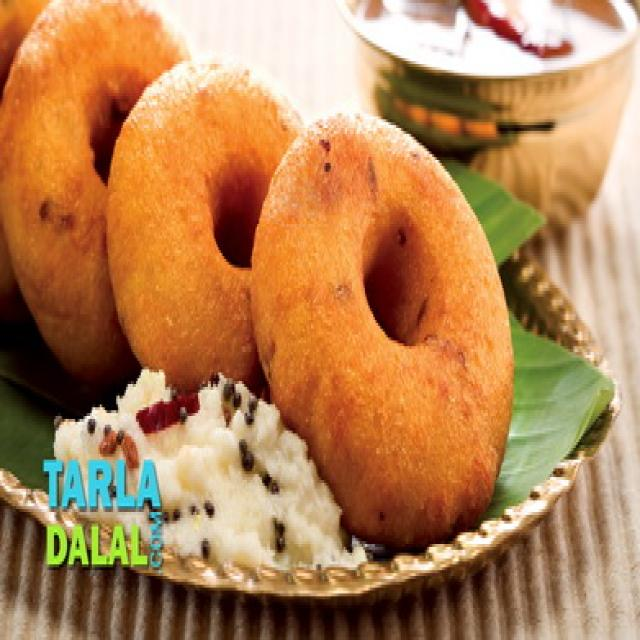MEDU VADA: (246, 107, 519, 545), (2, 1, 186, 382), (105, 57, 299, 386), (2, 0, 50, 87)
